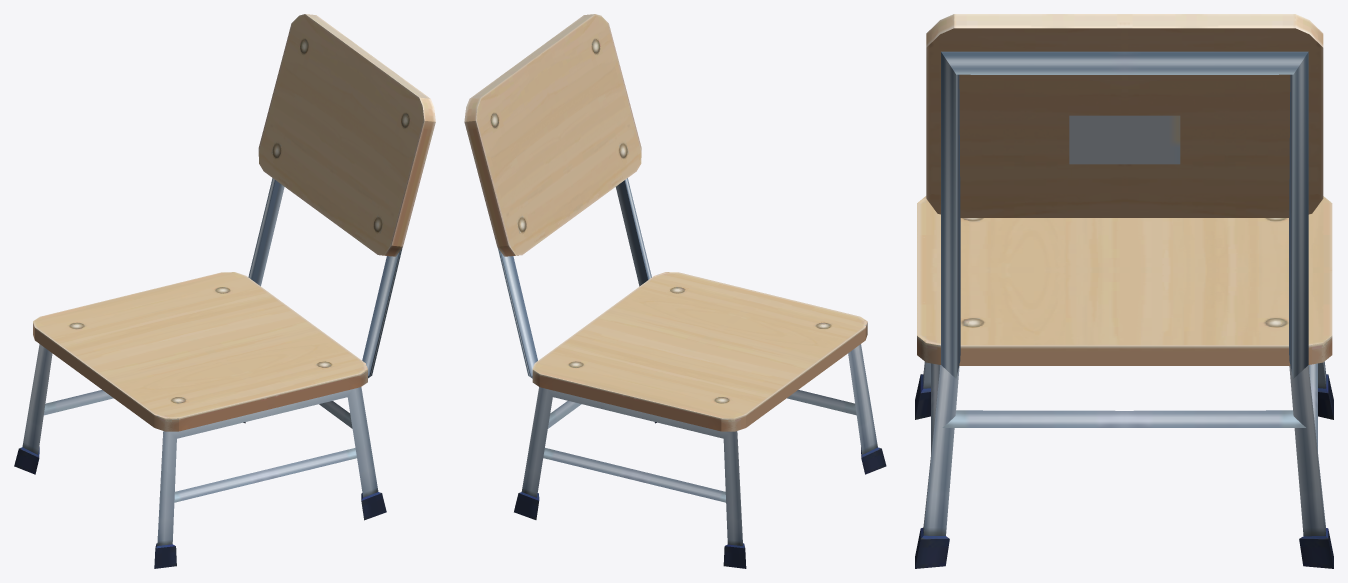
File: my_abydosclassroom_01_chair.glb
3 views of the same model, side by side, from view 1: azimuth 30°, elevation 25°; view 2: azimuth 150°, elevation 25°; view 3: azimuth 270°, elevation 25° (orthographic). The views are drawn at different scales.
Parts seen in each view (by area): view 1: my_abydosclassroom_01_chair; view 2: my_abydosclassroom_01_chair; view 3: my_abydosclassroom_01_chair.
Boxes of the visible parts, left/top/right/bottom form: my_abydosclassroom_01_chair: left=14, top=14, right=435, bottom=568; my_abydosclassroom_01_chair: left=464, top=14, right=886, bottom=568; my_abydosclassroom_01_chair: left=915, top=14, right=1333, bottom=568.
Bounding box in the file's own units: 0.00473 × 0.00619 × 0.00396.
Materials: 1 (1 with a texture image).
